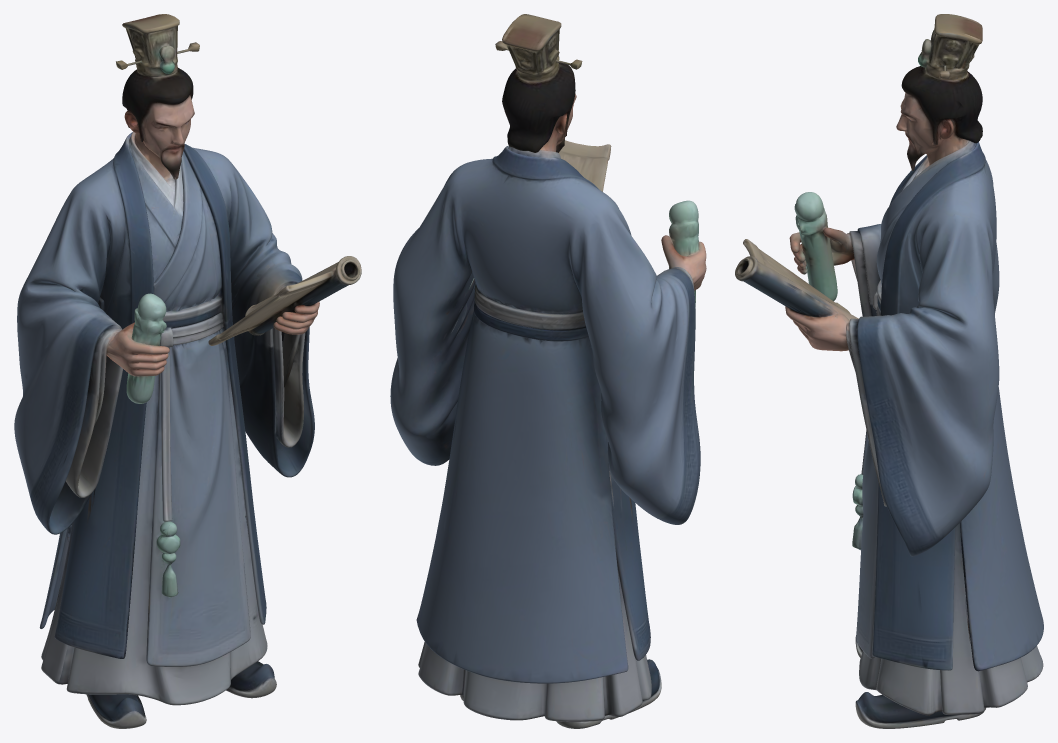
Rendered from np_jian.glb.
3 renders of one model, left to right at view 1: azimuth 30°, elevation 25°; view 2: azimuth 150°, elevation 25°; view 3: azimuth 270°, elevation 25°, orthographic. The views are drawn at different scales.
Visible parts, largest first — view 1: node_0; view 2: node_0; view 3: node_0.
Boxes of the visible parts, <box> form: node_0: <box>14,14,361,728</box>; node_0: <box>390,14,706,728</box>; node_0: <box>735,14,1043,728</box>.
Bounding box in the file's own units: 0.4903 × 1.15 × 0.4843.
Materials: 1 (1 with a texture image).
